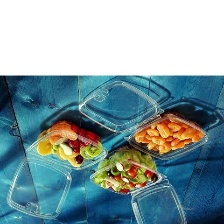plastic_box: (73, 76, 212, 165), (2, 115, 112, 224), (85, 141, 190, 224)
